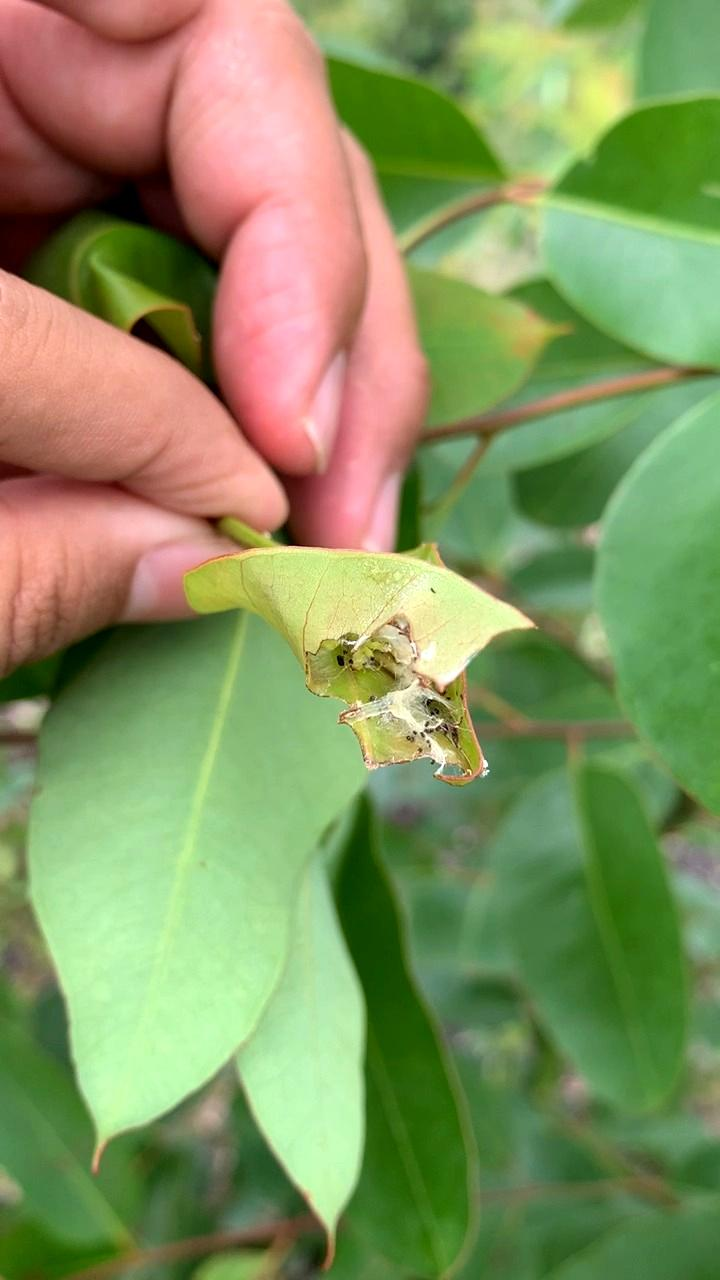Leaf Roller - Leaf: (203, 543, 541, 787)
